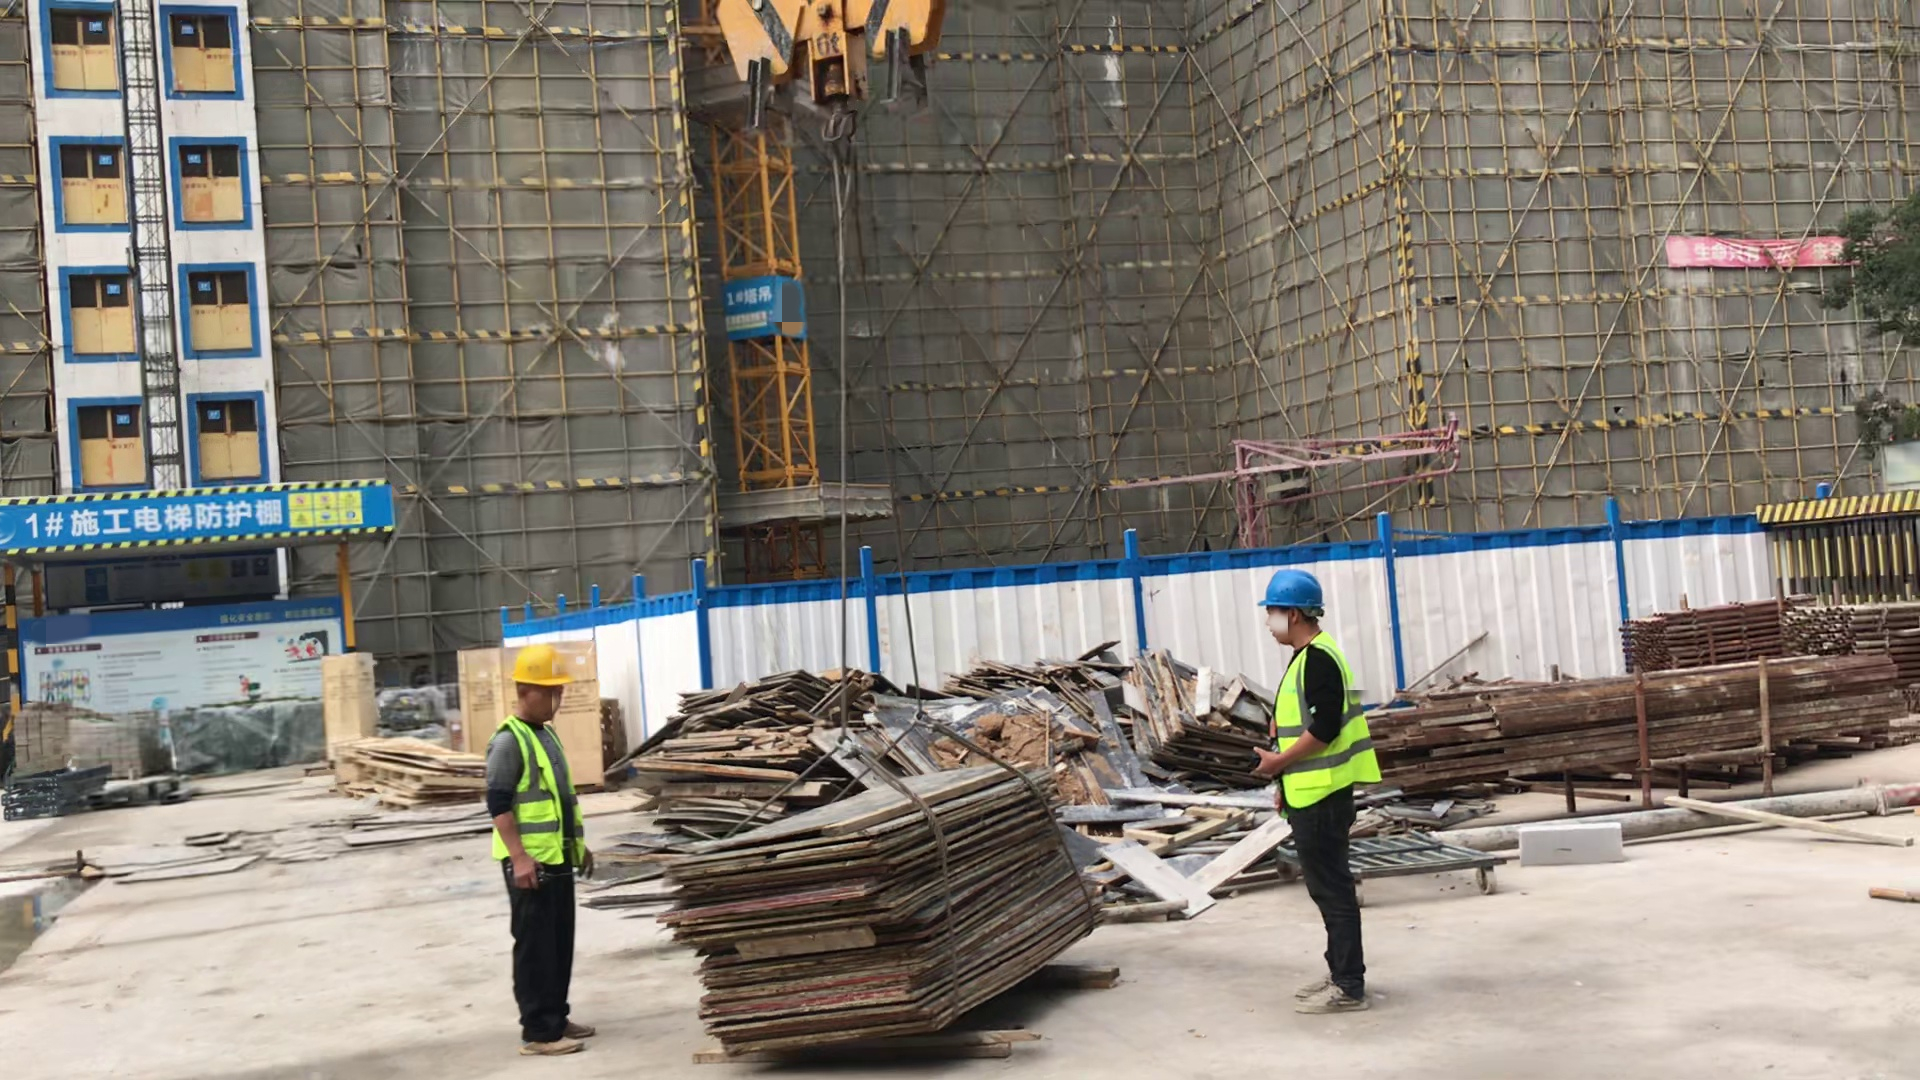board: (666, 761, 1103, 1064)
helmet: (509, 640, 573, 692), (1258, 565, 1325, 611)
hook: (710, 1, 950, 166)
person: (1240, 565, 1377, 1023), (481, 641, 607, 1065)
slogan: (1659, 222, 1906, 276), (283, 490, 374, 531), (724, 311, 771, 335)
vest: (1264, 632, 1379, 814), (488, 714, 586, 866)
